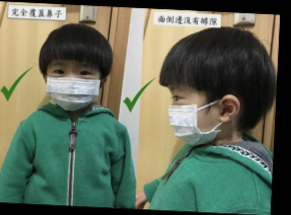with_mask: (166, 85, 223, 148), (44, 62, 101, 113)
